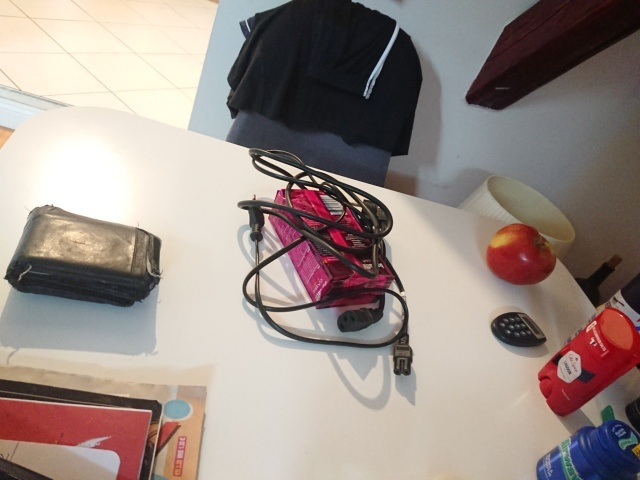Barcaffe Classic Original 225g: (266, 186, 397, 311)
